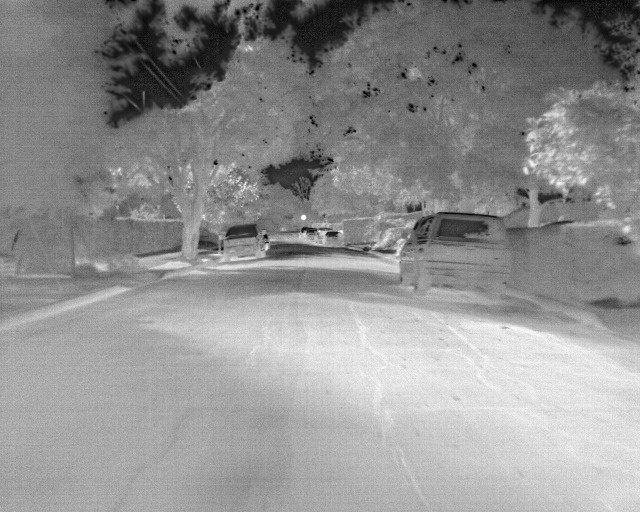vehicle: (398, 213, 517, 291), (222, 223, 266, 262)
